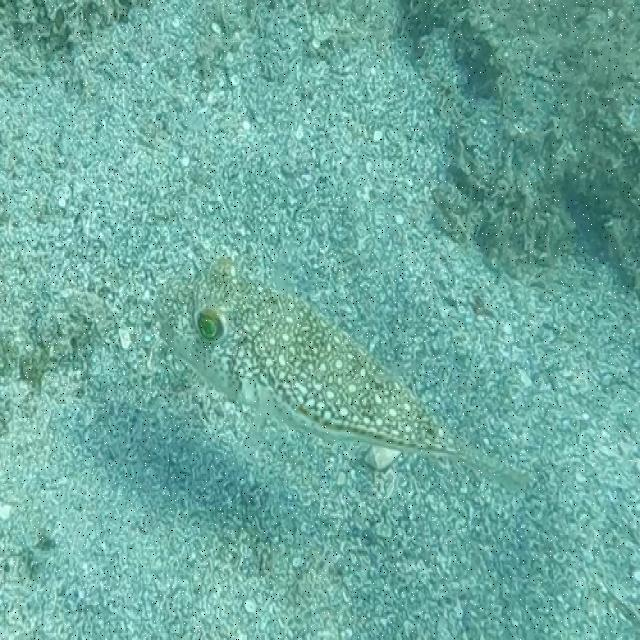Balik: (157, 259, 527, 489)
